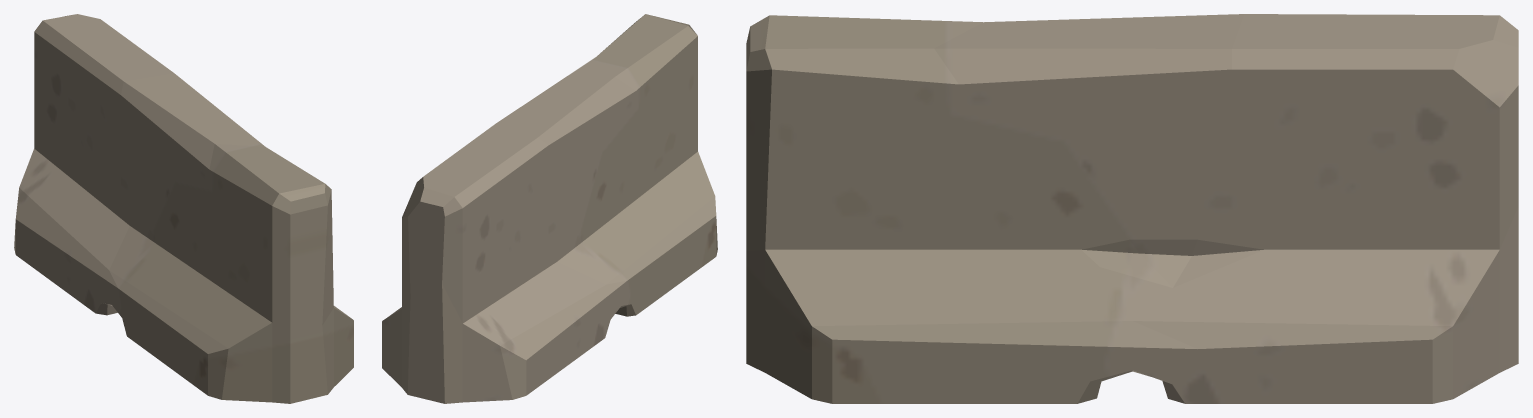
File: SM_Prop_Barrier_02.glb
3 renders of one model, left to right at view 1: azimuth 30°, elevation 25°; view 2: azimuth 150°, elevation 25°; view 3: azimuth 270°, elevation 25°, orthographic. The views are drawn at different scales.
Visible parts, largest first — view 1: SM_Prop_Barrier_02; view 2: SM_Prop_Barrier_02; view 3: SM_Prop_Barrier_02.
Boxes of the visible parts, x1,y1,x2,y2 form: SM_Prop_Barrier_02: [14, 14, 353, 403]; SM_Prop_Barrier_02: [382, 14, 717, 403]; SM_Prop_Barrier_02: [746, 14, 1518, 403].
Size of the model in its own units: 0.7003 by 0.9544 by 2.1.
1 material, 1 textured.
